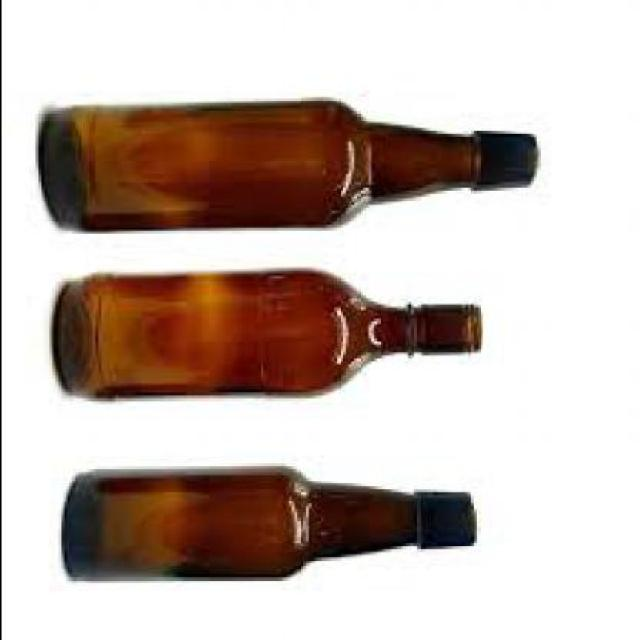GLASS: (40, 99, 477, 230), (54, 270, 483, 398), (62, 464, 416, 578)
METAL: (416, 489, 476, 543), (481, 130, 541, 184)
